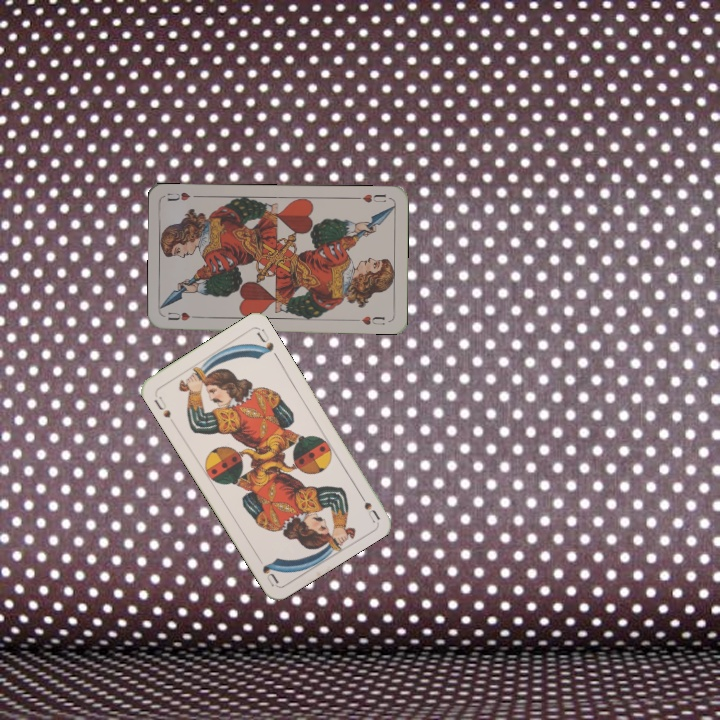HU: (164, 308, 202, 323), (352, 190, 388, 205)
SU: (353, 486, 382, 524), (150, 392, 177, 427)
